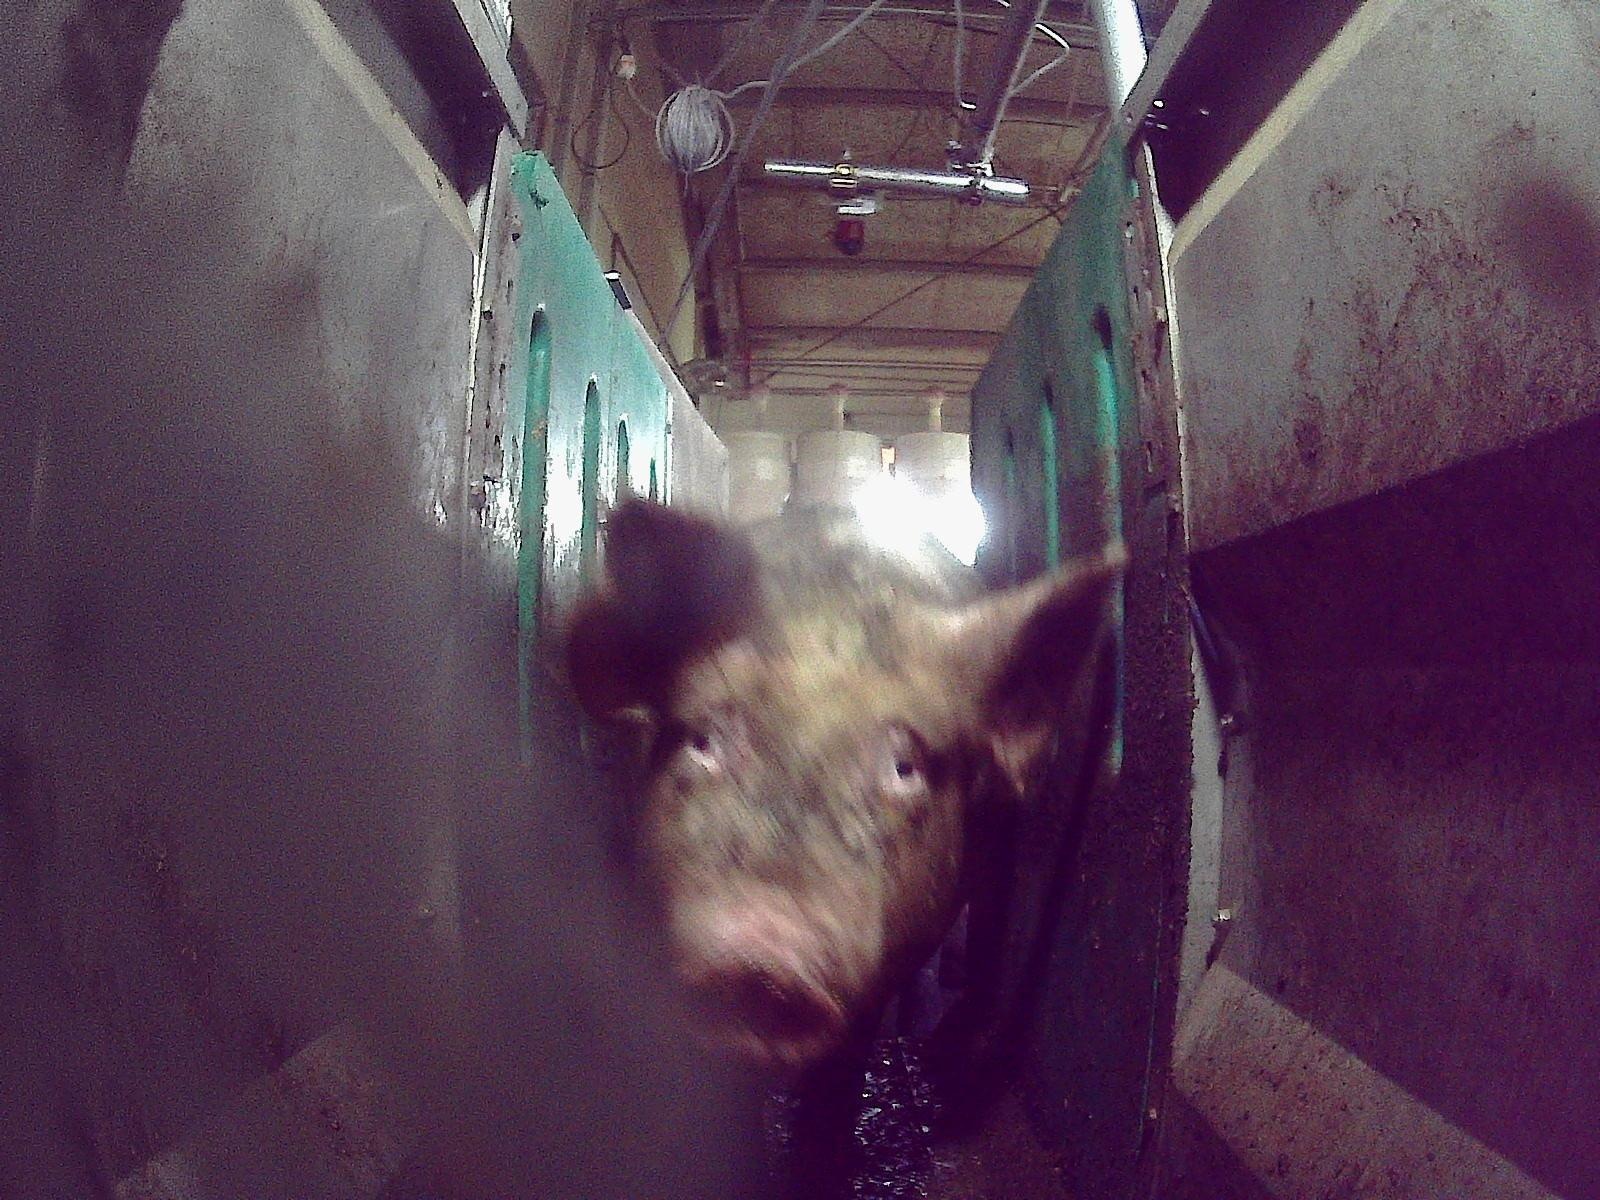Face: (641, 586, 978, 1062)
